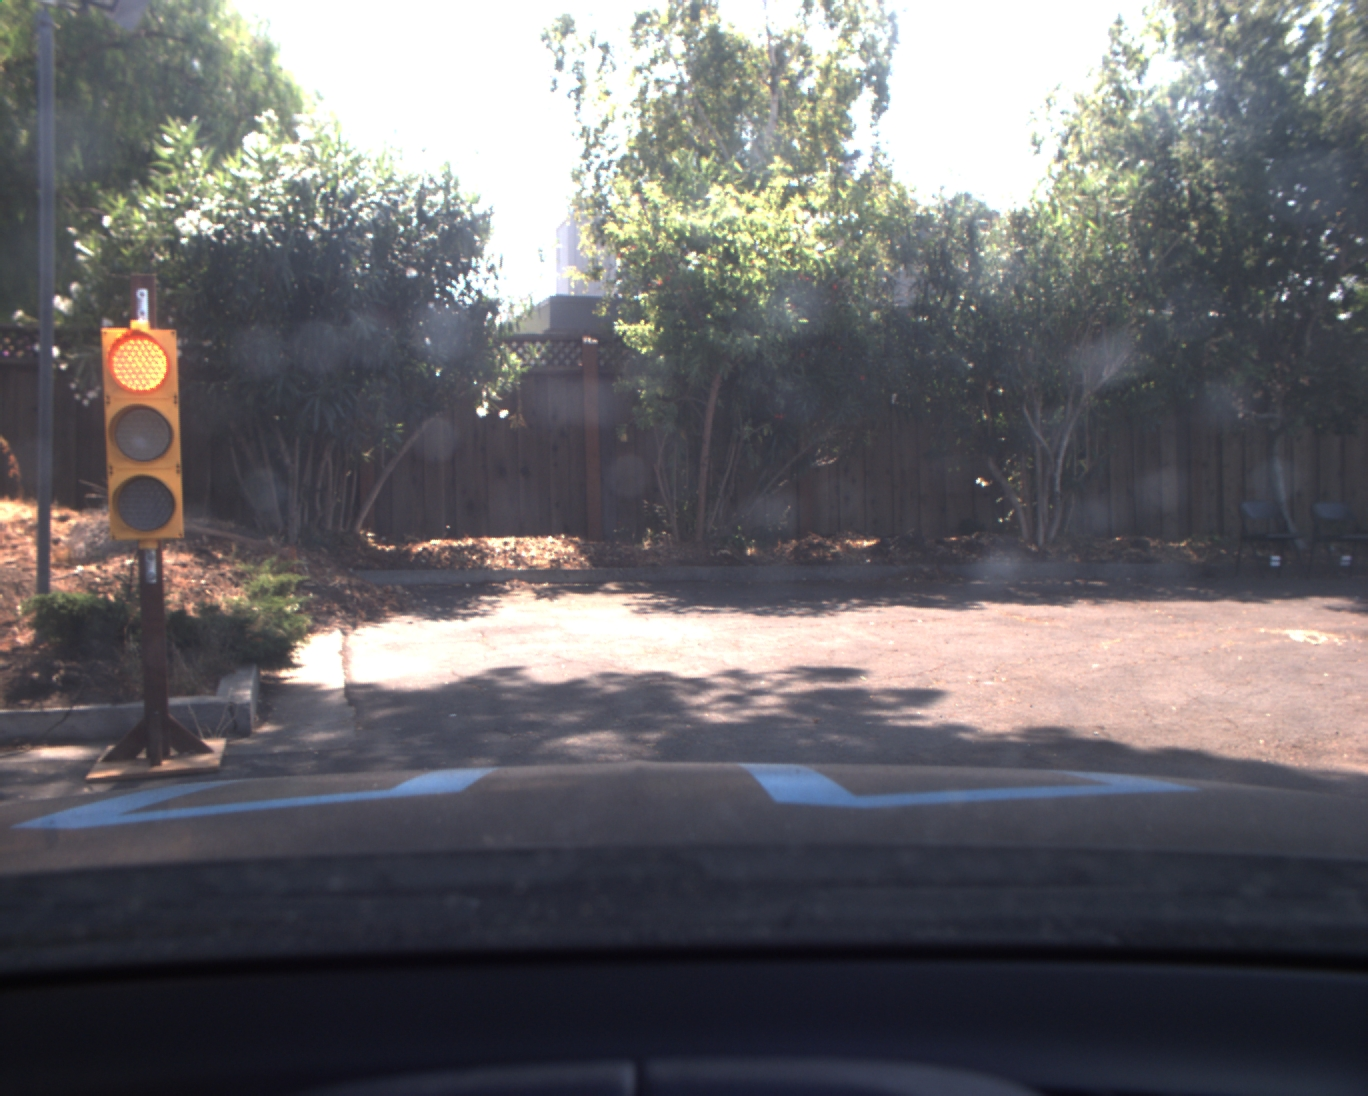red: (103, 326, 193, 534)
